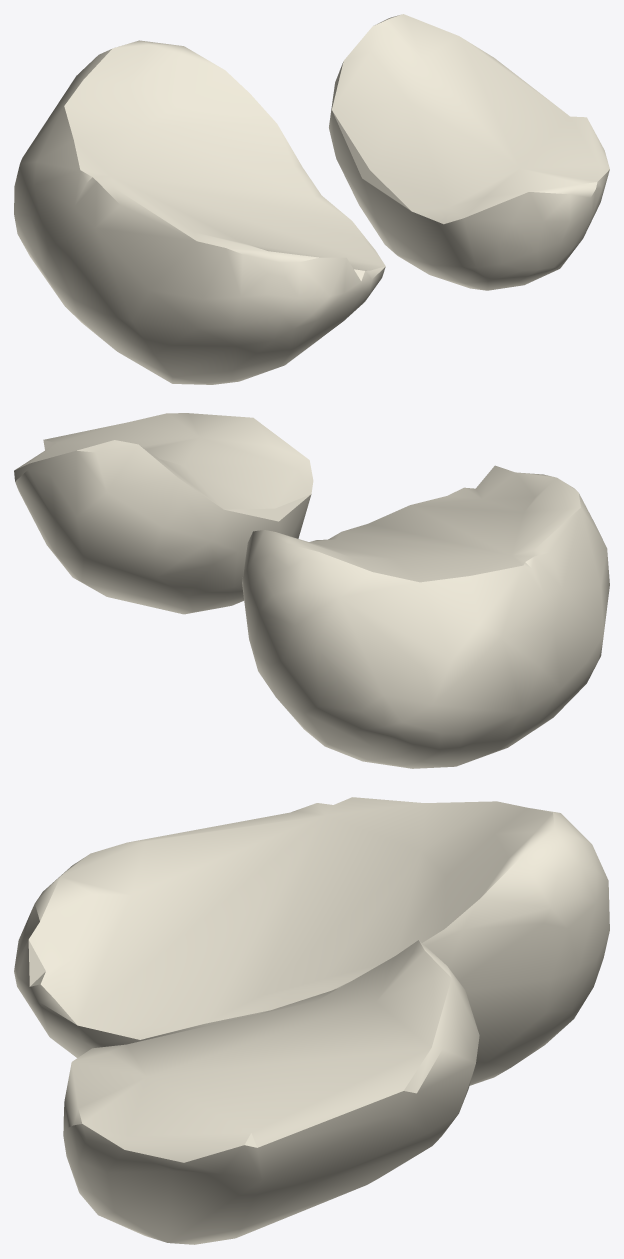
Rendered from fma45097.glb.
3 renders of one model, top to bottom at view 1: azimuth 30°, elevation 25°; view 2: azimuth 150°, elevation 25°; view 3: azimuth 270°, elevation 25°, orthographic. The views are drawn at different scales.
Visible parts, largest first — view 1: FMA45097; view 2: FMA45097; view 3: FMA45097.
Part boxes in pixels (<box>): FMA45097: <box>14,14,609,384</box>; FMA45097: <box>14,413,609,768</box>; FMA45097: <box>14,797,609,1244</box>.
Size of the model in its own units: 0.0169 by 0.00792 by 0.0133.
